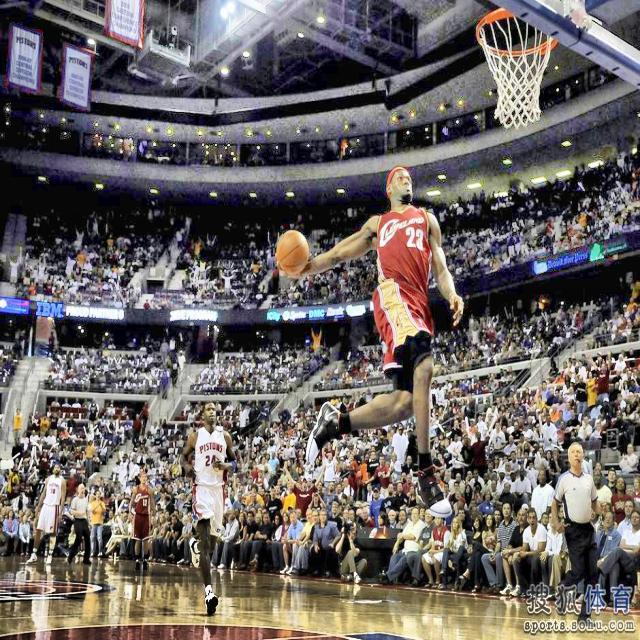board: (278, 230, 310, 274)
rim: (477, 8, 559, 128)
